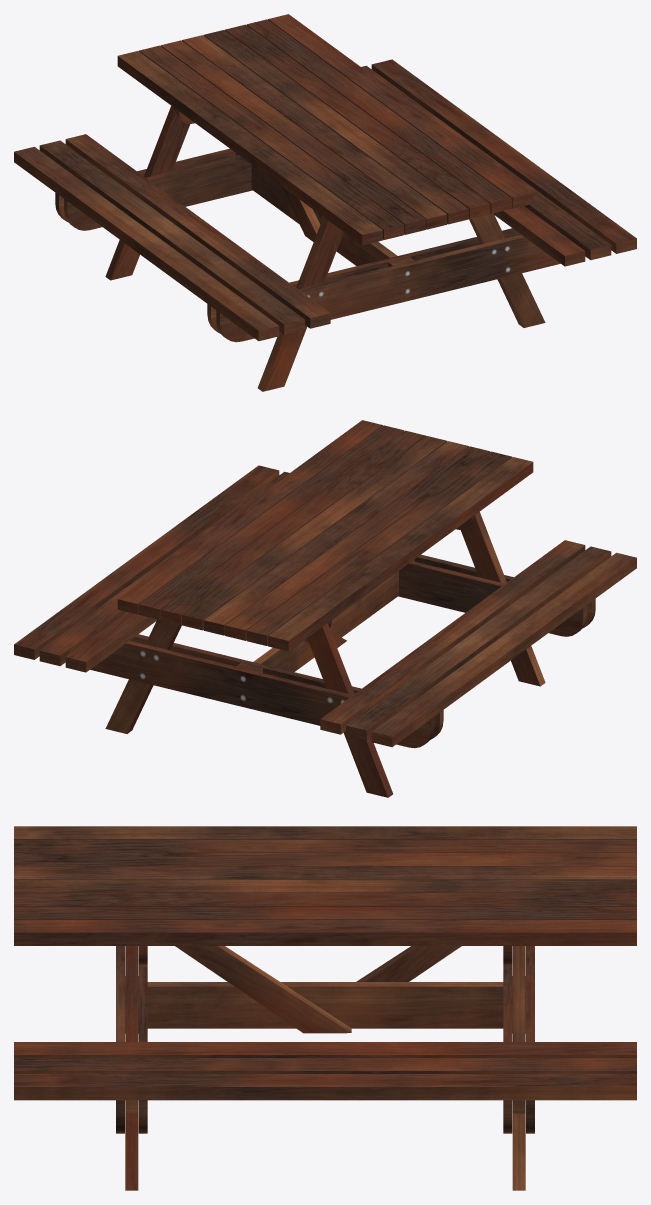
File: table2.glb
3 renders of one model, top to bottom at view 1: azimuth 30°, elevation 25°; view 2: azimuth 150°, elevation 25°; view 3: azimuth 270°, elevation 25°, orthographic. The views are drawn at different scales.
Visible parts, largest first — view 1: picnic table_0; view 2: picnic table_0; view 3: picnic table_0.
Boxes of the visible parts, x1,y1,x2,y2 form: picnic table_0: [14, 14, 636, 391]; picnic table_0: [14, 420, 636, 797]; picnic table_0: [14, 826, 636, 1190].
Size of the model in its own units: 1.6 by 0.7095 by 1.79.
Materials: 1 (1 with a texture image).
